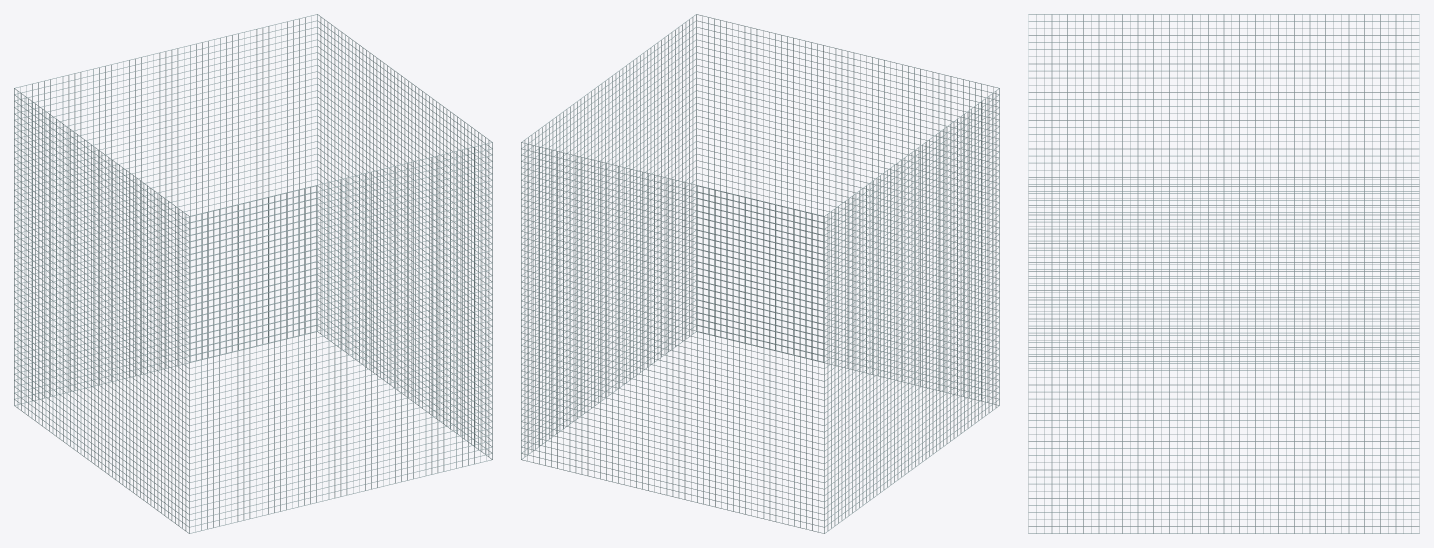
The picture shows the model from 3 angles, left to right: view 1: azimuth 30°, elevation 25°; view 2: azimuth 150°, elevation 25°; view 3: azimuth 270°, elevation 25°; orthographic projection. The views are drawn at different scales.
Parts seen in each view (by area): view 1: cube01.001, cube03.001, cube04.001, cube02.001; view 2: cube03.001, cube01.001, cube04.001, cube02.001; view 3: cube02.001, cube04.001, cube01.001.
Boxes of the visible parts, bbox=[...] form: cube01.001: bbox=[189, 142, 492, 533]; cube03.001: bbox=[14, 14, 317, 405]; cube04.001: bbox=[14, 88, 189, 533]; cube02.001: bbox=[317, 14, 492, 459]; cube03.001: bbox=[521, 142, 824, 533]; cube01.001: bbox=[696, 14, 999, 405]; cube04.001: bbox=[824, 88, 999, 533]; cube02.001: bbox=[521, 14, 696, 459]; cube02.001: bbox=[1028, 179, 1419, 533]; cube04.001: bbox=[1028, 14, 1419, 368]; cube01.001: bbox=[1028, 14, 1028, 533].
Size of the model in its own units: 2.5 by 2.5 by 2.5.
